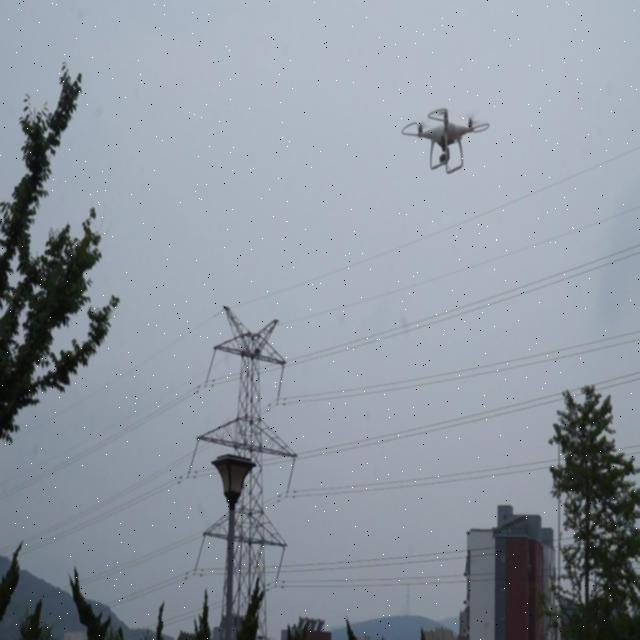UAV: (401, 107, 490, 174)
